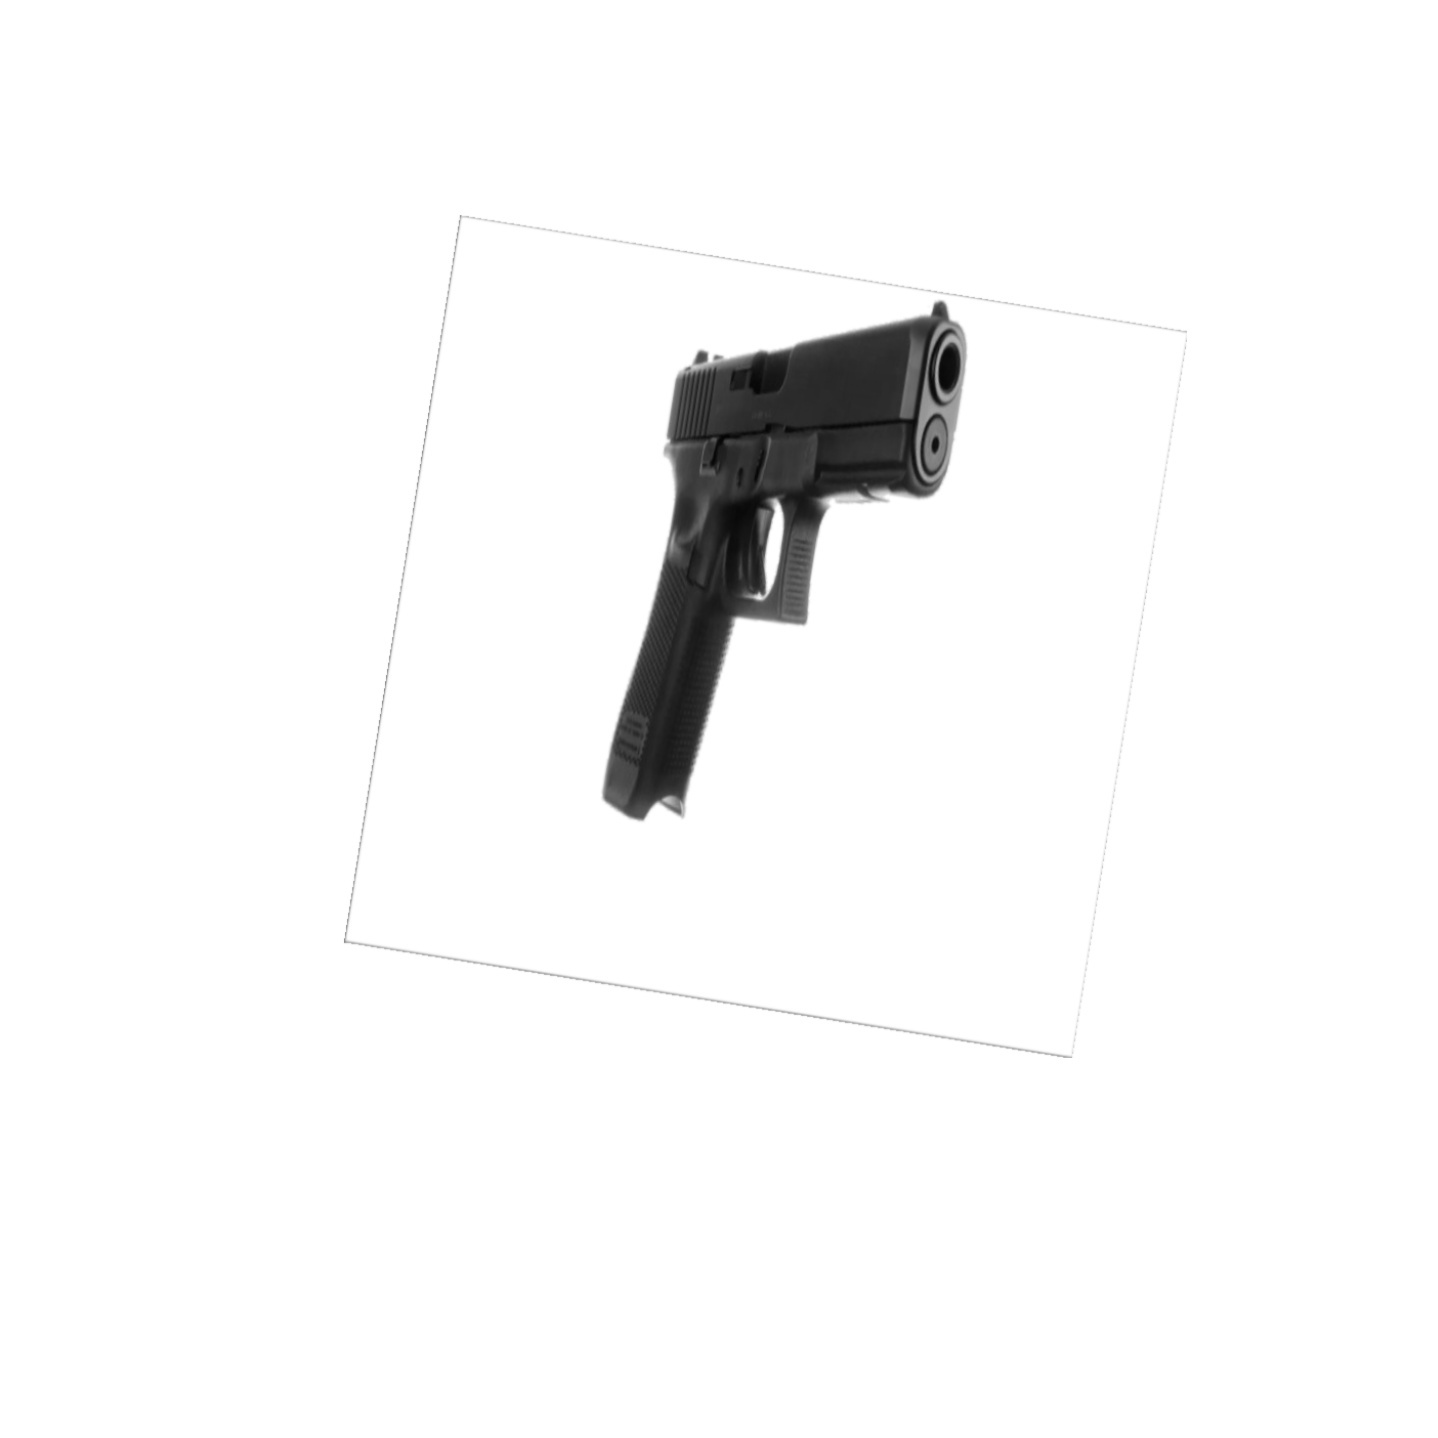gun: (600, 299, 984, 824)
